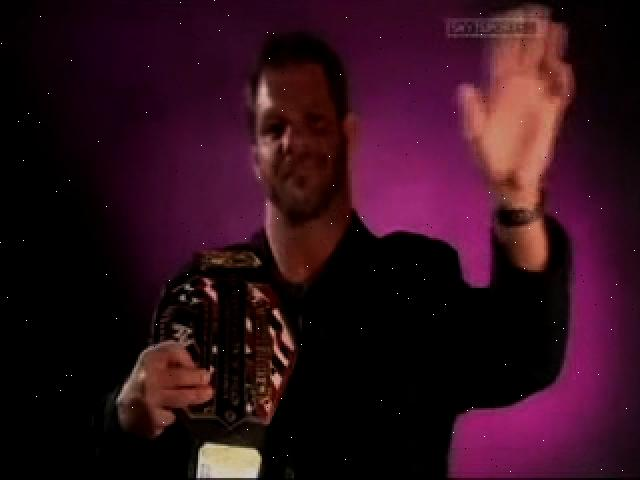L: (93, 23, 572, 479)
